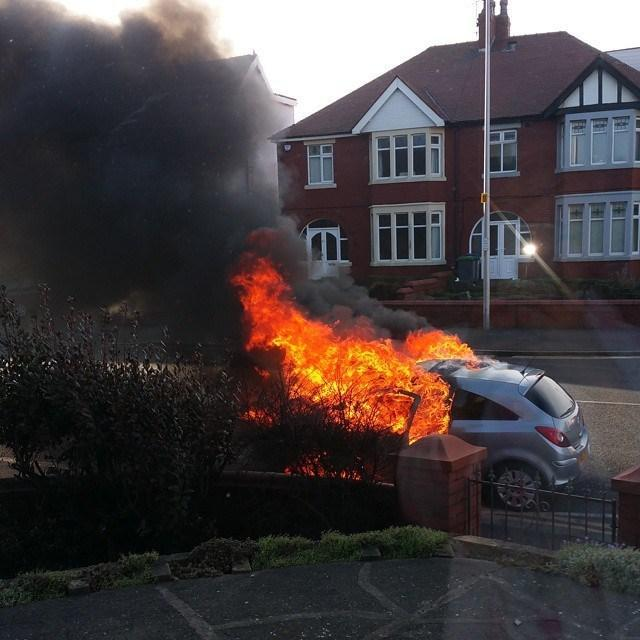Fire: (224, 252, 476, 474)
Smoke: (0, 0, 306, 249), (11, 250, 223, 357)
